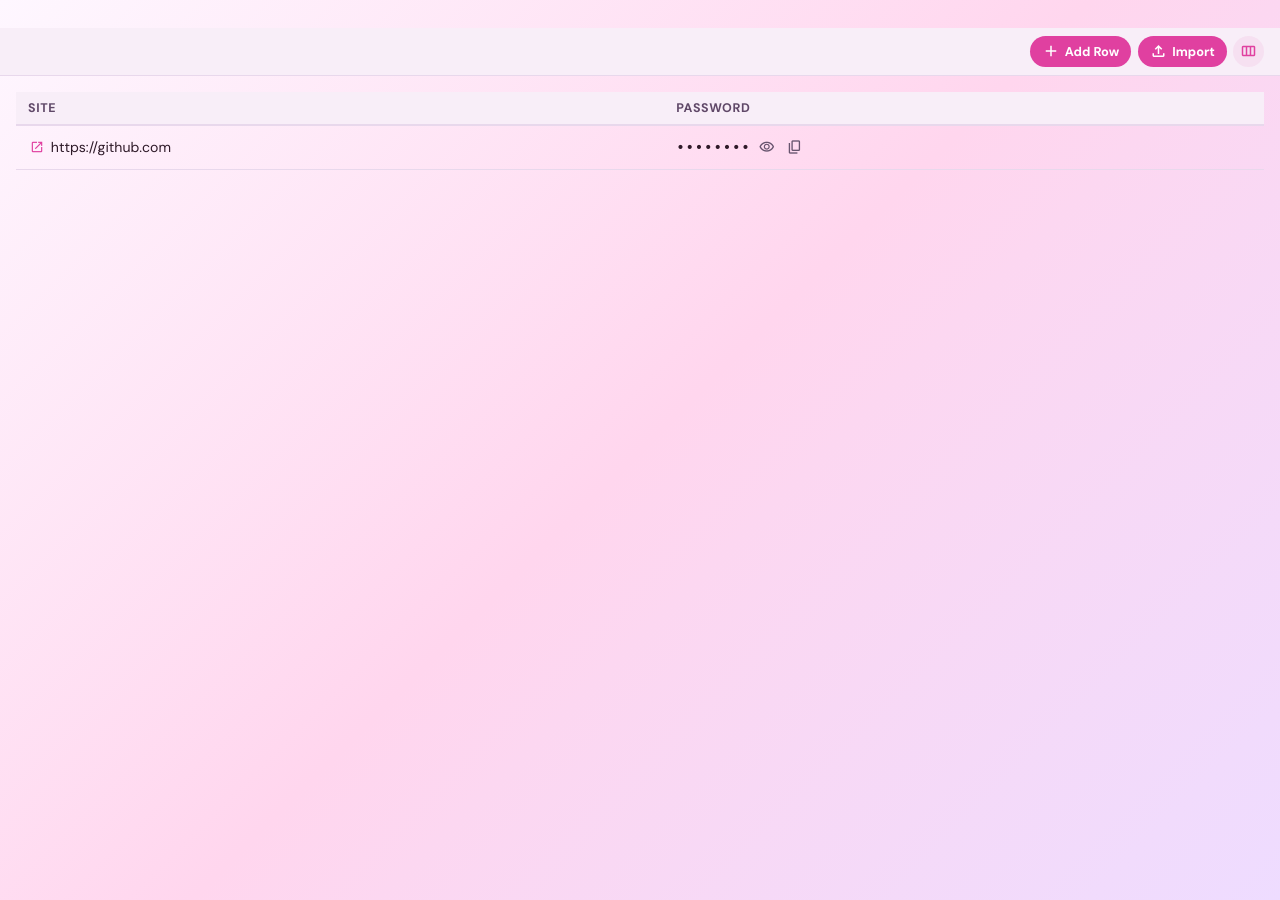
Test case: TableEditor masked cells: screen reader › announces the value and its revealed state once shown
What coordinates should you click on to do the following:
click the button named "Show value"
I would click on:
 (767, 147)
Its box is [755,135,779,159].
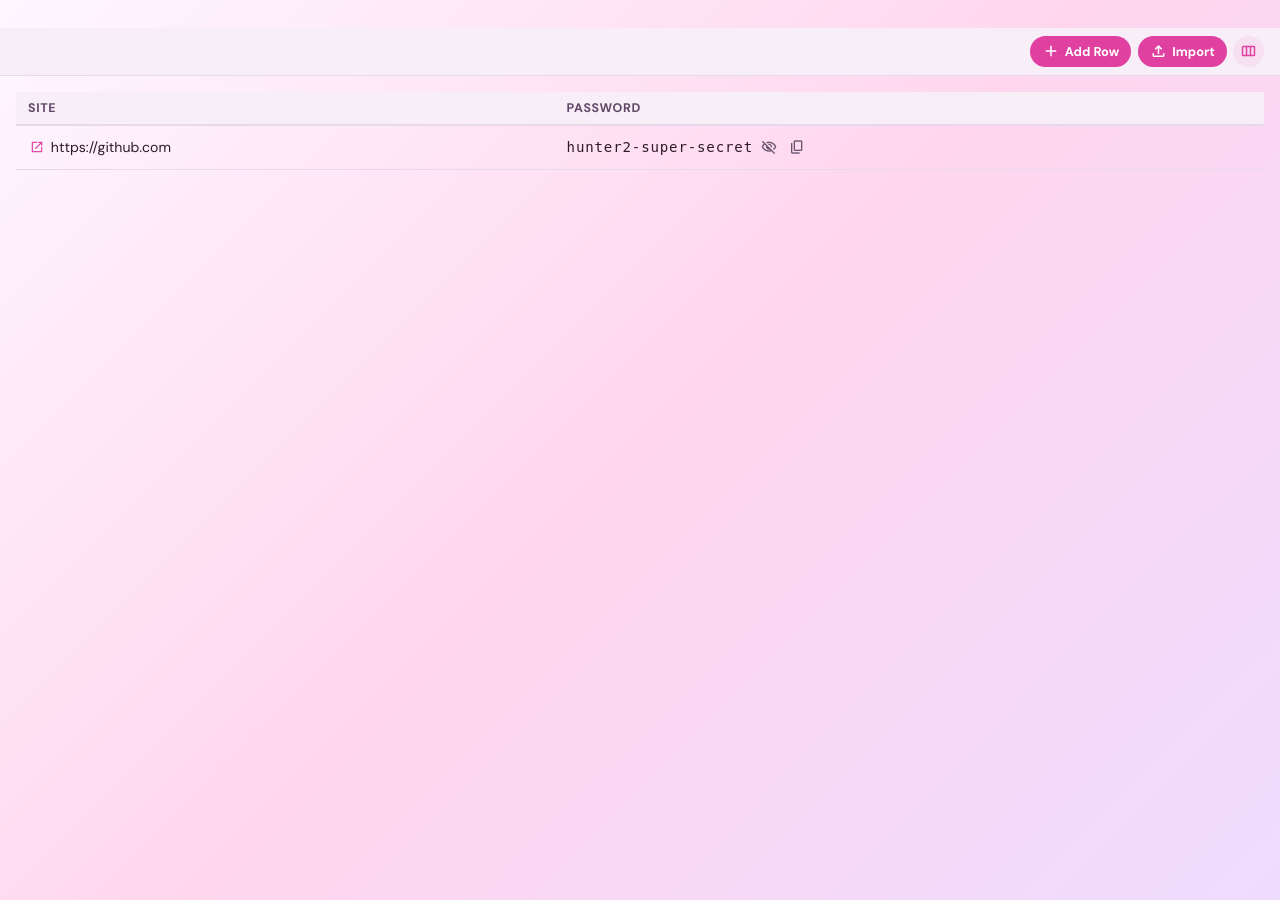
expect the element with class "secret-cell" does not show "hidden": met
expect the element with class "secret-cell" reads "hunter2-super-secret": met, box [567,139,753,155]
